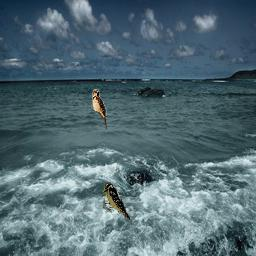Swallow: (92, 89, 107, 129)
Woodpecker: (102, 181, 130, 221)
